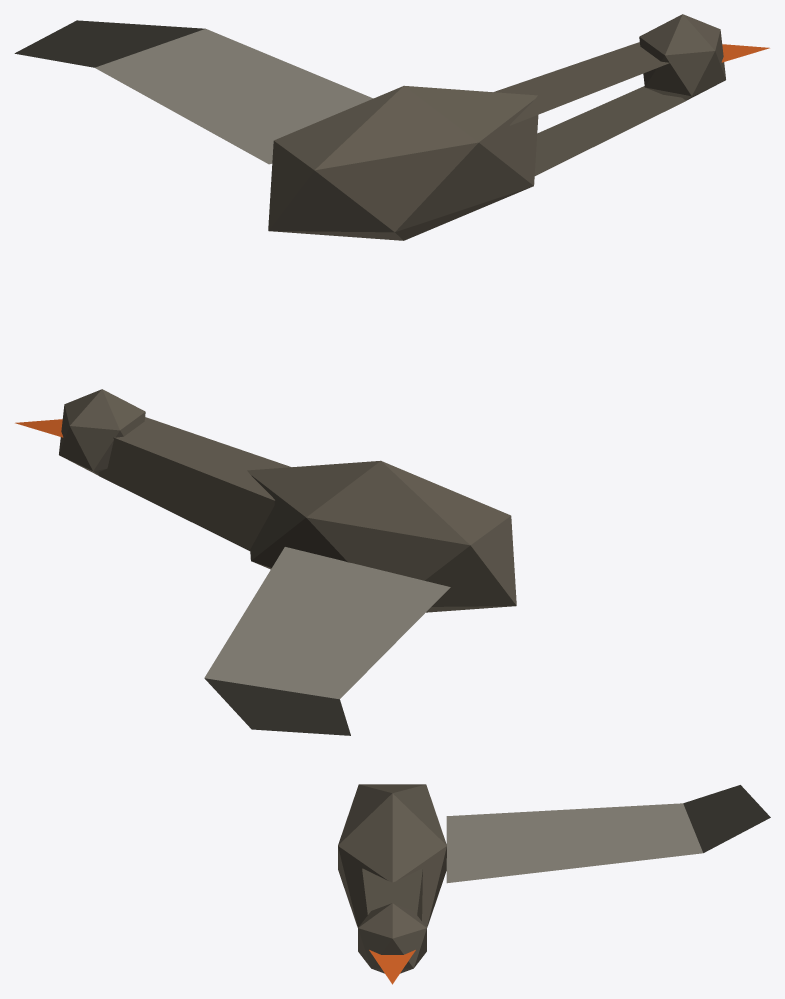
The model's file is goose.glb.
3 renders of one model, top to bottom at view 1: azimuth 30°, elevation 25°; view 2: azimuth 150°, elevation 25°; view 3: azimuth 270°, elevation 25°, orthographic. The views are drawn at different scales.
Parts seen in each view (by area): view 1: goose; view 2: goose; view 3: goose.
Boxes of the visible parts, x1,y1,x2,y2 form: goose: (14, 14, 769, 240); goose: (15, 389, 516, 735); goose: (338, 784, 770, 984).
Size of the model in its own units: 1.65 by 0.4299 by 2.24.
